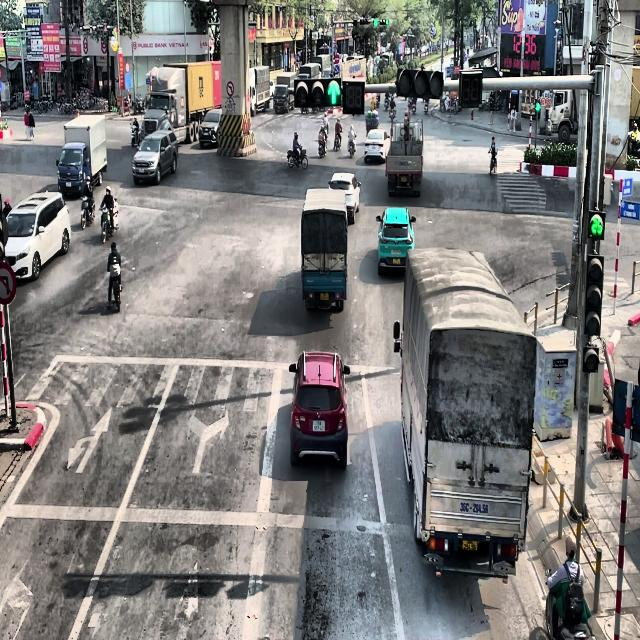lisence_plate: (458, 499, 489, 516), (459, 537, 479, 553), (312, 418, 326, 432), (319, 291, 330, 302), (391, 256, 402, 265), (399, 160, 411, 167), (401, 176, 407, 186), (372, 145, 378, 150)
